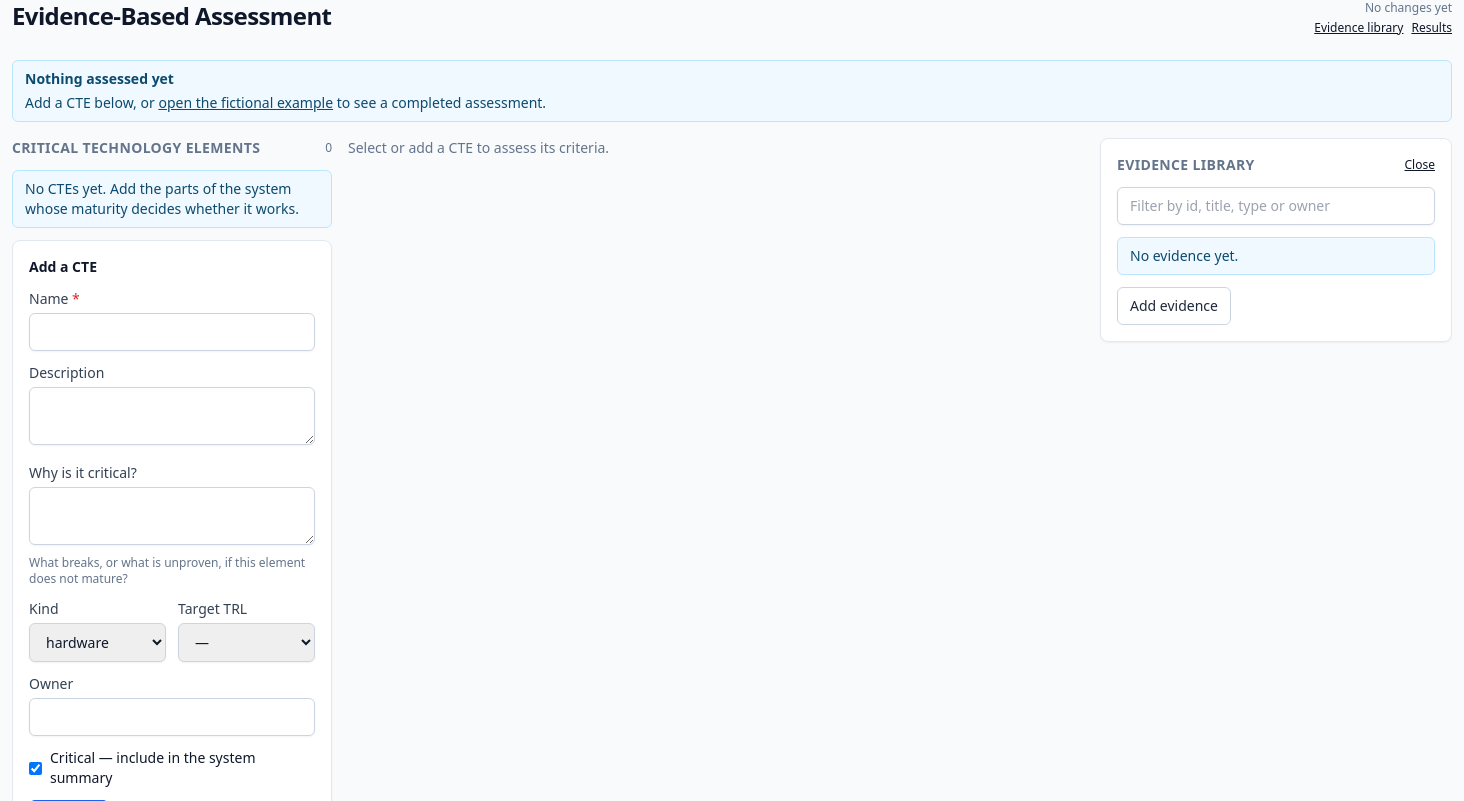
it: Tier 2 — CTE register › adds a CTE and selects it
Type "Energy harvester" into the field labelled "Name *" at coordinates (172, 332), box [29,313,315,351]
(page scrolled)
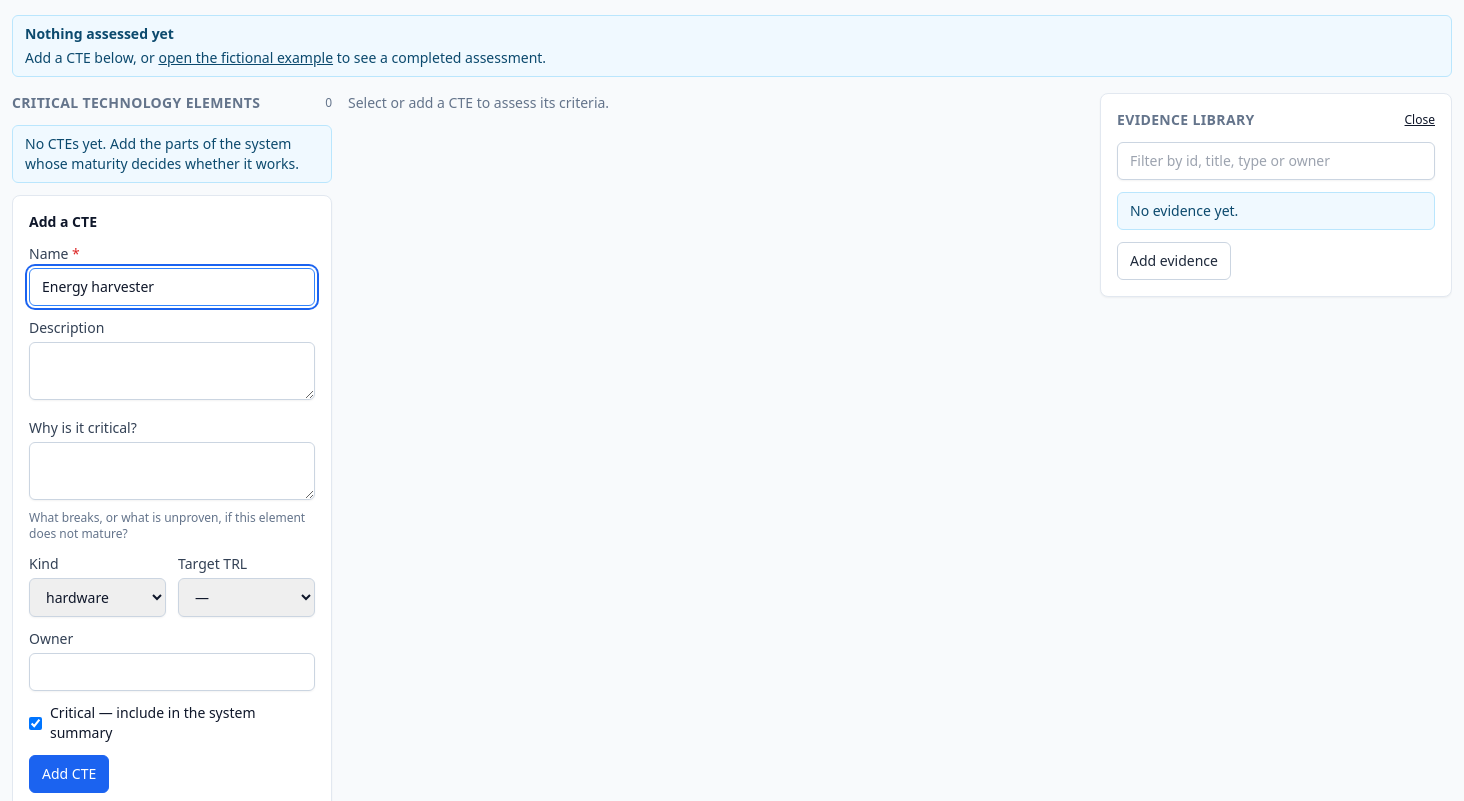
Click the button "Add CTE" at coordinates (69, 774), box [29,755,109,793]
(page scrolled)
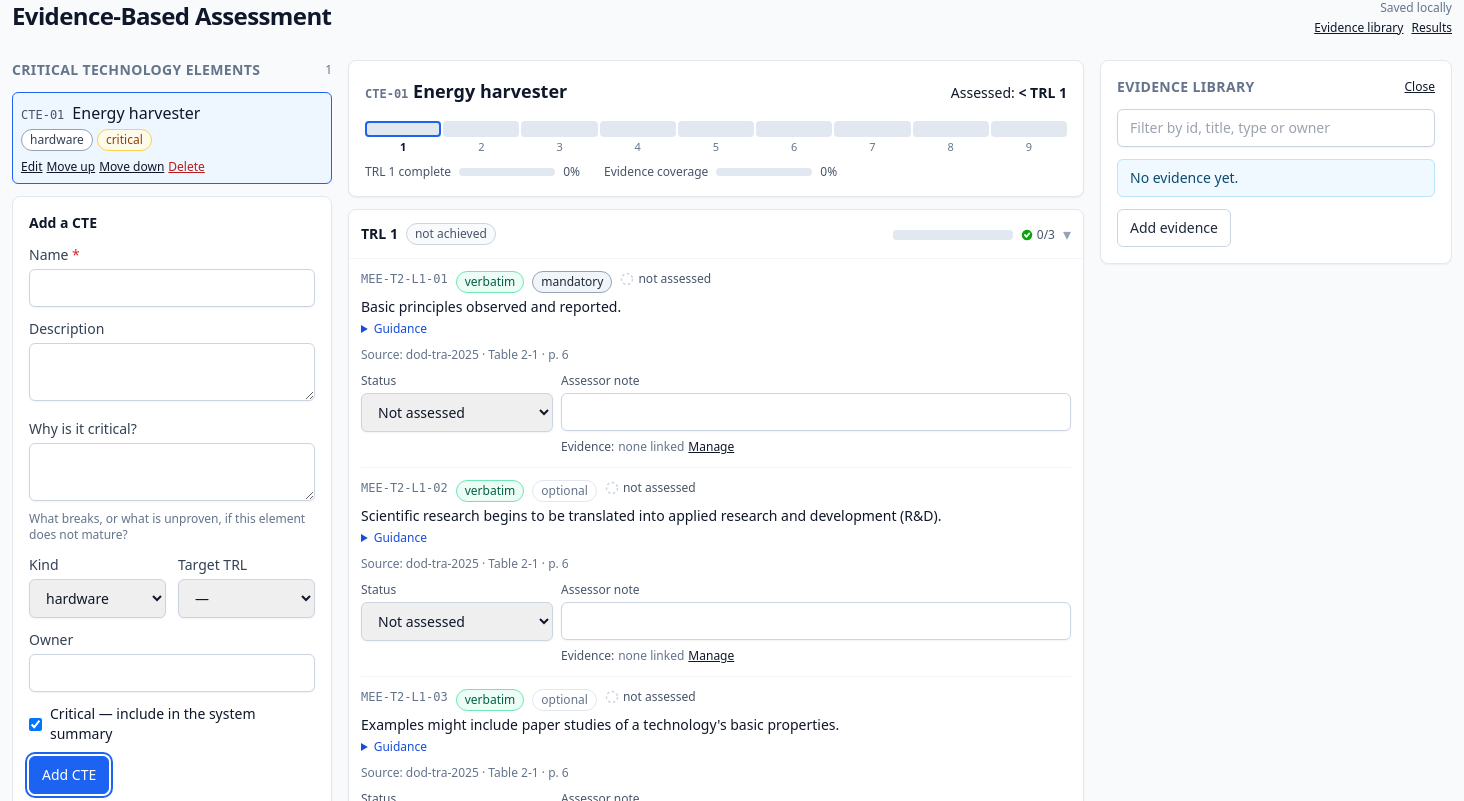
expect the text "CTE-01" below "Critical Technology Elements" is shown: met, box [21,108,64,122]
